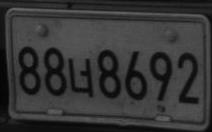2: (176, 50, 200, 104)
6: (123, 50, 148, 101)
8: (96, 48, 122, 99), (17, 45, 42, 96), (42, 46, 67, 96)
9: (149, 50, 173, 101)
너: (68, 57, 94, 98)
